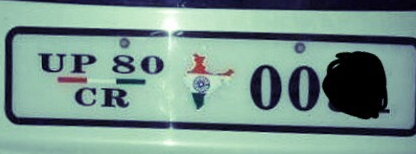0: (248, 63, 283, 113), (288, 65, 322, 113), (138, 54, 167, 76)
8: (111, 53, 136, 74)
C: (74, 86, 98, 107)
P: (69, 50, 97, 74)
R: (99, 87, 132, 110)
U: (37, 51, 67, 73)
